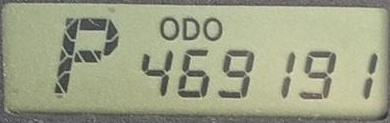1: (278, 50, 297, 99), (361, 51, 379, 100)
4: (140, 49, 174, 98)
6: (176, 49, 211, 98)
9: (298, 50, 337, 100), (217, 49, 255, 99)
X: (52, 16, 119, 95), (159, 16, 179, 41), (202, 17, 222, 41), (181, 17, 200, 41)
